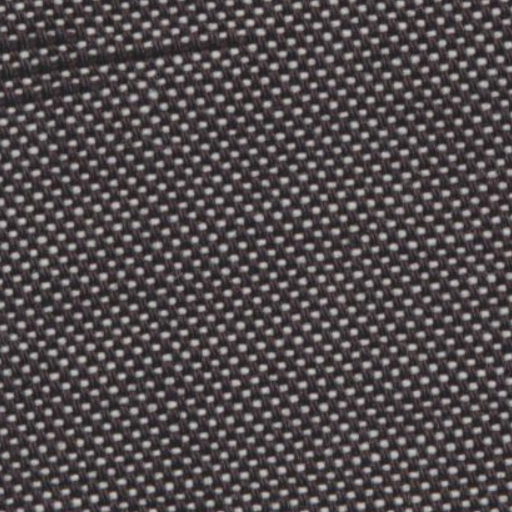DaiSha: (9, 22, 249, 103)
